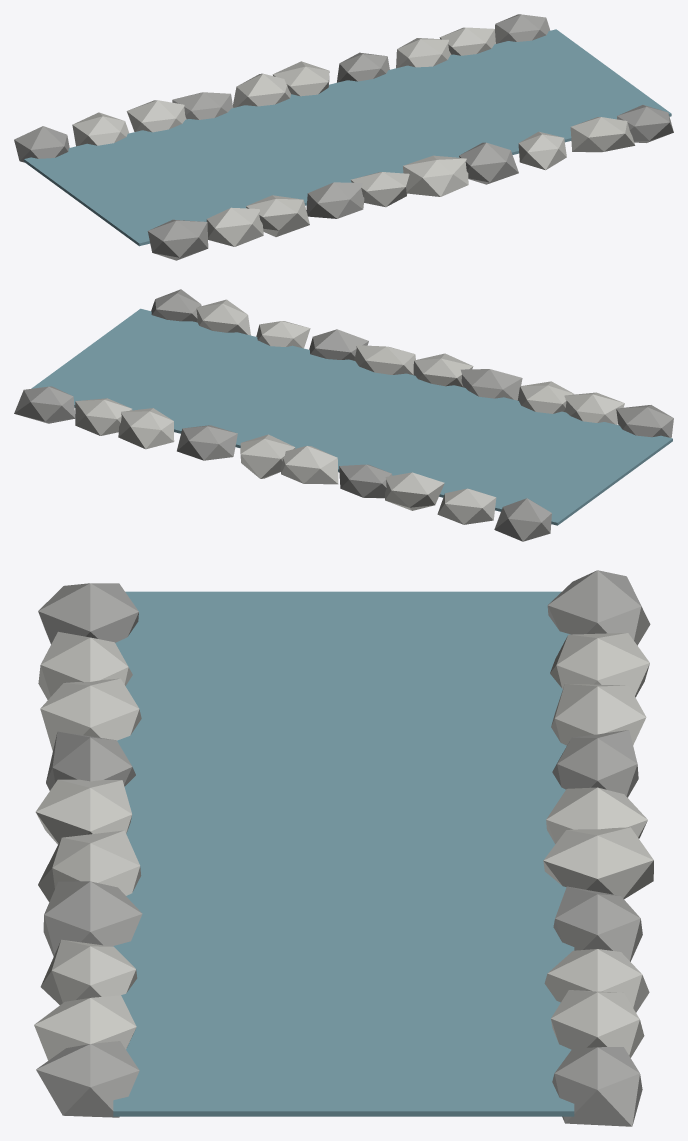
File: kawa.glb
3 renders of one model, top to bottom at view 1: azimuth 30°, elevation 25°; view 2: azimuth 150°, elevation 25°; view 3: azimuth 270°, elevation 25°, orthographic. The views are drawn at different scales.
Visible parts, largest first — view 1: kawa; view 2: kawa; view 3: kawa.
Part boxes in pixels (x1,y1,x2,y2): kawa: [14, 14, 673, 260]; kawa: [14, 289, 673, 541]; kawa: [34, 570, 653, 1126].
Bounding box in the file's own units: 8 × 0.6392 × 4.03.
